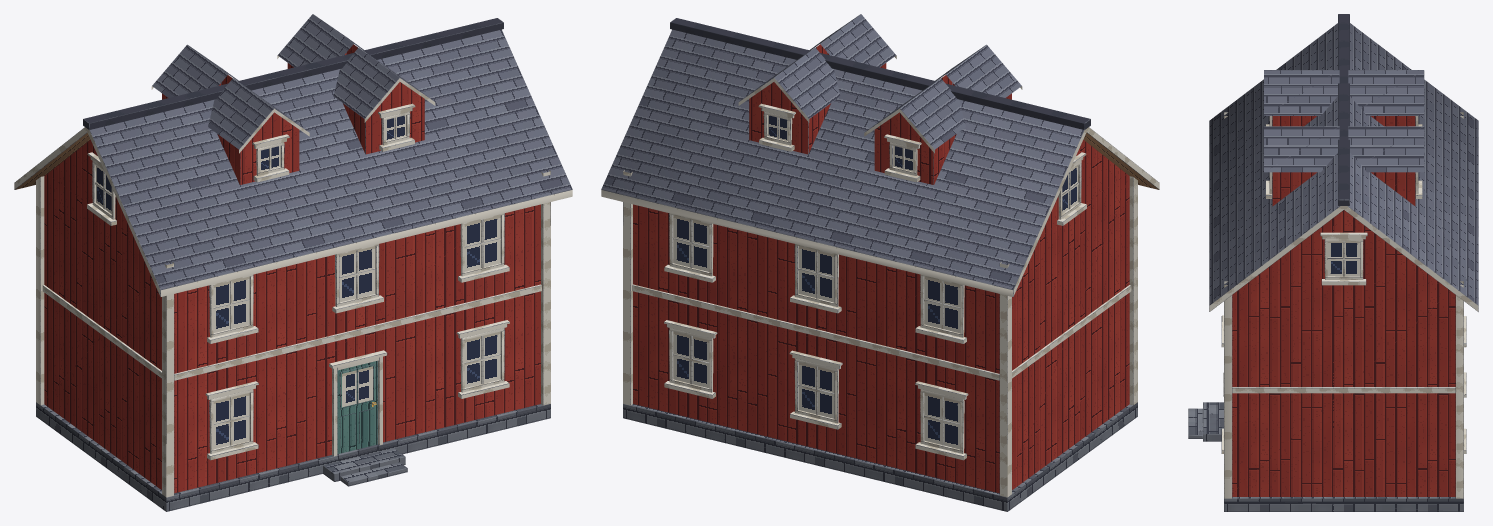
Rendered from town_house_5.glb.
The picture shows the model from 3 angles, left to right: view 1: azimuth 30°, elevation 25°; view 2: azimuth 150°, elevation 25°; view 3: azimuth 270°, elevation 25°; orthographic projection. The views are drawn at different scales.
Visible parts, largest first — view 1: town_house_6; view 2: town_house_6; view 3: town_house_6.
Boxes of the visible parts, x1=… form: town_house_6: x1=14, y1=14, x2=572, y2=511; town_house_6: x1=601, y1=14, x2=1159, y2=511; town_house_6: x1=1188, y1=14, x2=1478, y2=511.
Bounding box in the file's own units: 10.46 × 8.58 × 6.9.
9 materials, 9 textured.
